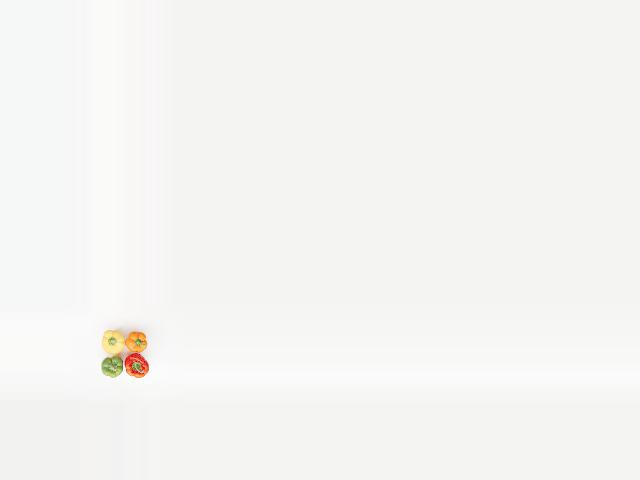bell_pepper: (94, 353, 128, 379)
